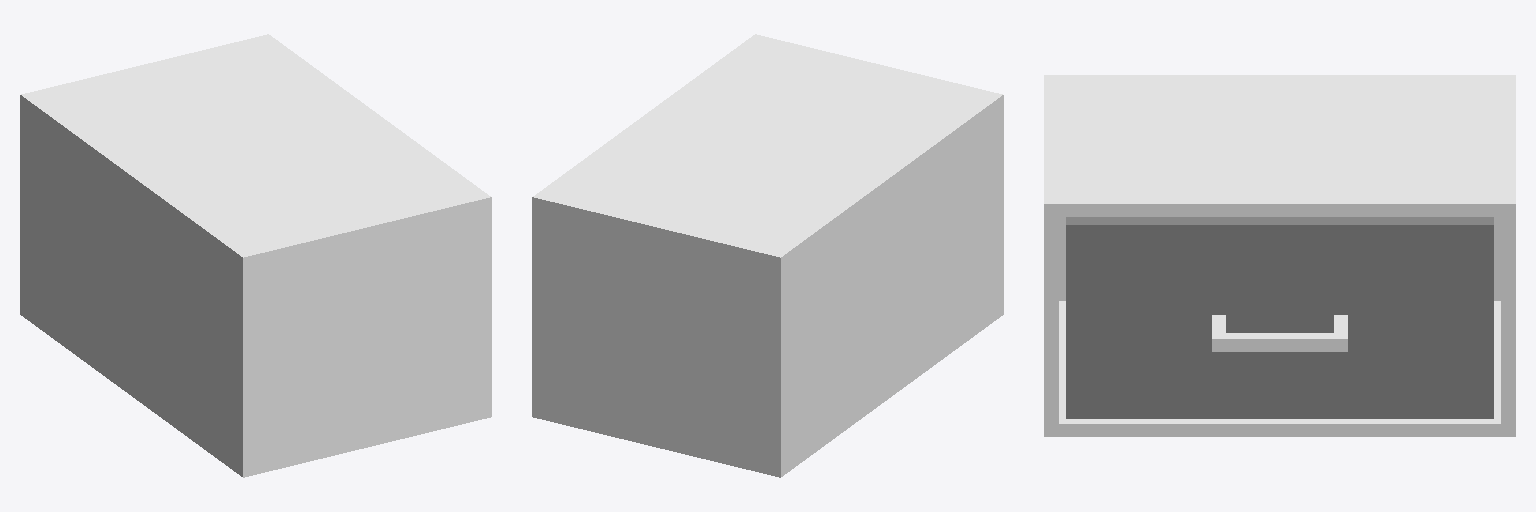
URDF robot description (drawer):
<?xml version="1.0" ?>
<!-- =================================================================================== -->
<!-- |    This document was autogenerated by xacro from drawer_one_sided_handle.xacro  | -->
<!-- |    EDITING THIS FILE BY HAND IS NOT RECOMMENDED                                 | -->
<!-- =================================================================================== -->
<robot name="drawer" xmlns:xacro="http://ros.org/wiki/xacro">
  <material name="omni/Blue">
    <color rgba="0 0 0.8 1"/>
  </material>
  <material name="omni/Red">
    <color rgba="1 0 0 1"/>
  </material>
  <material name="omni/White">
    <color rgba="1 1 1 1"/>
  </material>
  <material name="omni/Green">
    <color rgba="0 1 0 1"/>
  </material>
  <material name="omni/Yellow">
    <color rgba="1 1 0 1"/>
  </material>
  <material name="omni/LightGrey">
    <color rgba="0.6 0.6 0.6 1"/>
  </material>
  <material name="omni/DarkGrey">
    <color rgba="0.4 0.4 0.4 1"/>
  </material>
  <link name="base_link">
    </link>
  <link name="drawer">
    <visual>
      <origin rpy="0 0 0" xyz="0 0 0"/>
      <geometry>
        <box size="0.4 0.6 0.3"/>
      </geometry>
      <material name="omni/LightGrey"/>
    </visual>
    <collision>
      <origin rpy="0 0 0" xyz="0 0 0"/>
      <geometry>
        <box size="0.4 0.6 0.3"/>
      </geometry>
      <contact_coefficients mu="0.0"/>
    </collision>
    <inertial>
      <!-- CENTER OF MASS -->
      <origin rpy="0 0 0" xyz="0 0 0"/>
      <mass value="0.1"/>
      <!-- box inertia: 1/12*m(y^2+z^2), ... -->
      <inertia ixx="1e-3" ixy="0" ixz="0" iyy="1e-3" iyz="0" izz="1e-3"/>
    </inertial>
  </link>
  <joint name="base_drawer_joint" type="prismatic">
    <origin rpy="0 0 0" xyz="0 0 0"/>
    <parent link="base_link"/>
    <child link="drawer"/>
    <dynamics damping="0.5" friction="0.1"/>
    <limit effort="0.1" lower="0.0" upper="0.5" velocity="10.0"/>
    <axis xyz="1 0 0"/>
  </joint>
  <link name="left_wall">
    <visual>
      <origin rpy="0 0 0" xyz="0 0 0"/>
      <geometry>
        <box size="0.41 0.02 0.32"/>
      </geometry>
      <material name="omni/White"/>
    </visual>
    <collision>
      <origin rpy="0 0 0" xyz="0 0 0.0"/>
      <geometry>
        <box size="0.41 0.02 0.32"/>
      </geometry>
    </collision>
    <inertial>
      <!-- CENTER OF MASS -->
      <origin rpy="0 0 0" xyz="0 0 0"/>
      <mass value="0.05"/>
      <!-- box inertia: 1/12*m(y^2+z^2), ... -->
      <inertia ixx="1e-3" ixy="0" ixz="0" iyy="1e-3" iyz="0" izz="1e-3"/>
    </inertial>
  </link>
  <joint name="b_2_lw" type="fixed">
    <origin rpy="0 0 0" xyz="-0.01 -0.32 0"/>
    <parent link="base_link"/>
    <child link="left_wall"/>
  </joint>
  <link name="right_wall">
    <visual>
      <origin rpy="0 0 0" xyz="0 0 0"/>
      <geometry>
        <box size="0.41 0.02 0.32"/>
      </geometry>
      <material name="omni/White"/>
    </visual>
    <collision>
      <origin rpy="0 0 0" xyz="0 0 0.0"/>
      <geometry>
        <box size="0.41 0.02 0.32"/>
      </geometry>
    </collision>
    <inertial>
      <!-- CENTER OF MASS -->
      <origin rpy="0 0 0" xyz="0 0 0"/>
      <mass value="0.05"/>
      <!-- box inertia: 1/12*m(y^2+z^2), ... -->
      <inertia ixx="1e-3" ixy="0" ixz="0" iyy="1e-3" iyz="0" izz="1e-3"/>
    </inertial>
  </link>
  <joint name="b_2_rw" type="fixed">
    <origin rpy="0 0 0" xyz="-0.01 0.32 0"/>
    <parent link="base_link"/>
    <child link="right_wall"/>
  </joint>
  <link name="bottom_wall">
    <visual>
      <origin rpy="0 0 0" xyz="0 0 0"/>
      <geometry>
        <box size="0.41 0.66 0.02"/>
      </geometry>
      <material name="omni/White"/>
    </visual>
    <collision>
      <origin rpy="0 0 0" xyz="0 0 0.0"/>
      <geometry>
        <box size="0.41 0.66 0.02"/>
      </geometry>
    </collision>
    <inertial>
      <!-- CENTER OF MASS -->
      <origin rpy="0 0 0" xyz="0 0 0"/>
      <mass value="0.05"/>
      <!-- box inertia: 1/12*m(y^2+z^2), ... -->
      <inertia ixx="1e-3" ixy="0" ixz="0" iyy="1e-3" iyz="0" izz="1e-3"/>
    </inertial>
  </link>
  <joint name="b_2_bw" type="fixed">
    <origin rpy="0 0 0" xyz="-0.01 0 -0.17"/>
    <parent link="base_link"/>
    <child link="bottom_wall"/>
  </joint>
  <link name="top_wall">
    <visual>
      <origin rpy="0 0 0" xyz="0 0 0"/>
      <geometry>
        <box size="0.41 0.66 0.02"/>
      </geometry>
      <material name="omni/White"/>
    </visual>
    <collision>
      <origin rpy="0 0 0" xyz="0 0 0.0"/>
      <geometry>
        <box size="0.41 0.66 0.02"/>
      </geometry>
    </collision>
    <inertial>
      <!-- CENTER OF MASS -->
      <origin rpy="0 0 0" xyz="0 0 0"/>
      <mass value="0.05"/>
      <!-- box inertia: 1/12*m(y^2+z^2), ... -->
      <inertia ixx="1e-3" ixy="0" ixz="0" iyy="1e-3" iyz="0" izz="1e-3"/>
    </inertial>
  </link>
  <joint name="b_2_tw" type="fixed">
    <origin rpy="0 0 0" xyz="-0.01 0 0.17"/>
    <parent link="base_link"/>
    <child link="top_wall"/>
  </joint>
  <link name="back_wall">
    <visual>
      <origin rpy="0 0 0" xyz="0 0 0"/>
      <geometry>
        <box size="0.02 0.66 0.36"/>
      </geometry>
      <material name="omni/White"/>
    </visual>
    <collision>
      <origin rpy="0 0 0" xyz="0 0 0.0"/>
      <geometry>
        <box size="0.02 0.66 0.36"/>
      </geometry>
    </collision>
    <inertial>
      <!-- CENTER OF MASS -->
      <origin rpy="0 0 0" xyz="0 0 0"/>
      <mass value="0.05"/>
      <!-- box inertia: 1/12*m(y^2+z^2), ... -->
      <inertia ixx="1e-3" ixy="0" ixz="0" iyy="1e-3" iyz="0" izz="1e-3"/>
    </inertial>
  </link>
  <joint name="b_2_backw" type="fixed">
    <origin rpy="0 0 0" xyz="-0.22 0 0"/>
    <parent link="base_link"/>
    <child link="back_wall"/>
  </joint>
  <link name="handle_left">
    <visual>
      <origin rpy="0 0 0" xyz="0 0 0"/>
      <geometry>
        <box size="0.06 0.02 0.02"/>
      </geometry>
      <material name="omni/White"/>
    </visual>
    <collision>
      <origin rpy="0 0 0" xyz="0 0 0.0"/>
      <geometry>
        <box size="0.06 0.02 0.02"/>
      </geometry>
    </collision>
    <inertial>
      <!-- CENTER OF MASS -->
      <origin rpy="0 0 0" xyz="0 0 0"/>
      <mass value="0.05"/>
      <!-- box inertia: 1/12*m(y^2+z^2), ... -->
      <inertia ixx="2e-05" ixy="0" ixz="0" iyy="0.0001" iyz="0" izz="0.0001"/>
    </inertial>
  </link>
  <joint name="d_2_hl" type="fixed">
    <origin rpy="0 0 0" xyz="0.23 -0.085 0"/>
    <parent link="drawer"/>
    <child link="handle_left"/>
  </joint>
  <link name="handle_right">
    <visual>
      <origin rpy="0 0 0" xyz="0 0 0"/>
      <geometry>
        <box size="0.06 0.02 0.02"/>
      </geometry>
      <material name="omni/White"/>
    </visual>
    <collision>
      <origin rpy="0 0 0" xyz="0 0 0.0"/>
      <geometry>
        <box size="0.06 0.02 0.02"/>
      </geometry>
    </collision>
    <inertial>
      <!-- CENTER OF MASS -->
      <origin rpy="0 0 0" xyz="0 0 0"/>
      <mass value="0.05"/>
      <!-- box inertia: 1/12*m(y^2+z^2), ... -->
      <inertia ixx="2e-05" ixy="0" ixz="0" iyy="0.0001" iyz="0" izz="0.0001"/>
    </inertial>
  </link>
  <joint name="d_2_hr" type="fixed">
    <origin rpy="0 0 0" xyz="0.23 0.085 0"/>
    <parent link="drawer"/>
    <child link="handle_right"/>
  </joint>
  <link name="handle_grip">
    <visual>
      <origin rpy="0 0 0" xyz="0 0 0"/>
      <geometry>
        <box size="0.02 0.19 0.02"/>
      </geometry>
      <material name="omni/White"/>
    </visual>
    <collision>
      <origin rpy="0 0 0" xyz="0 0 0.0"/>
      <geometry>
        <box size="0.02 0.19 0.02"/>
      </geometry>
    </collision>
    <inertial>
      <!-- CENTER OF MASS -->
      <origin rpy="0 0 0" xyz="0 0 0"/>
      <mass value="0.05"/>
      <!-- box inertia: 1/12*m(y^2+z^2), ... -->
      <inertia ixx="0.0009125" ixy="0" ixz="0" iyy="2e-05" iyz="0" izz="0.0009125"/>
    </inertial>
  </link>
  <joint name="d_2_hg" type="fixed">
    <origin rpy="0 0 0" xyz="0.27 0 0"/>
    <parent link="drawer"/>
    <child link="handle_grip"/>
  </joint>
<!--  <link name="handle_top_cover">-->
<!--    <visual>-->
<!--      <origin rpy="0 0 0" xyz="0 0 0"/>-->
<!--      <geometry>-->
<!--        &lt;!&ndash; <box size="${handle_gap + handle_thickness} ${handle_span + 2 * handle_thickness} ${handle_thickness * 20}"/> &ndash;&gt;-->
<!--        <box size="0.08 0.19 0.006"/>-->
<!--      </geometry>-->
<!--      <material name="omni/White"/>-->
<!--    </visual>-->
<!--    <collision>-->
<!--      <origin rpy="0 0 0" xyz="0 0 0.0"/>-->
<!--      <geometry>-->
<!--        <box size="0.08 0.19 0.006"/>-->
<!--      </geometry>-->
<!--      <contact_coefficients mu="0.0"/>-->
<!--    </collision>-->
<!--    <inertial>-->
<!--      <origin rpy="0 0 0" xyz="0 0 0"/>-->
<!--      <mass value="0.05"/>-->
<!--      <inertia ixx="0.0009125" ixy="0" ixz="0" iyy="0.0001" iyz="0" izz="0.0009925"/>-->
<!--    </inertial>-->
<!--  </link>-->
<!--  <joint name="d_2_htc" type="fixed">-->
<!--    <origin rpy="0 0 0" xyz="0.24 0 -0.043"/>-->
<!--    <parent link="drawer"/>-->
<!--    <child link="handle_top_cover"/>-->
<!--  </joint>-->
<!--  <link name="handle_bottom_cover">-->
<!--    <visual>-->
<!--      <origin rpy="0 0 0" xyz="0 0 0"/>-->
<!--      <geometry>-->
<!--        &lt;!&ndash; <box size="${handle_gap + handle_thickness} ${handle_span + 2 * handle_thickness} ${handle_thickness * 20}"/> &ndash;&gt;-->
<!--        <box size="0.006 0.19 0.113136"/>-->
<!--      </geometry>-->
<!--      <material name="omni/White"/>-->
<!--    </visual>-->
<!--    <collision>-->
<!--      <origin rpy="0 0 0" xyz="0 0 0.0"/>-->
<!--      <geometry>-->
<!--        <box size="0.006 0.19 0.113136"/>-->
<!--      </geometry>-->
<!--      <contact_coefficients mu="0.0"/>-->
<!--    </collision>-->
<!--    <inertial>-->
<!--      <origin rpy="0 0 0" xyz="0 0 0"/>-->
<!--      <mass value="0.05"/>-->
<!--      <inertia ixx="0.0009125" ixy="0" ixz="0" iyy="0.0001" iyz="0" izz="0.0009925"/>-->
<!--    </inertial>-->
<!--  </link>-->
<!--  <joint name="d_2_hbc" type="fixed">-->
<!--    <origin rpy="0 0.78539816339 0" xyz="-0.001 0 -0.04"/>-->
<!--    <parent link="handle_top_cover"/>-->
<!--    <child link="handle_bottom_cover"/>-->
<!--  </joint>-->
</robot>

--- What the picture shows (computed from the rendered views, not written in the file) ---
The picture shows the robot from 3 angles, left to right: view 1: azimuth 30°, elevation 25°; view 2: azimuth 150°, elevation 25°; view 3: azimuth 270°, elevation 25°; orthographic projection.
Model drawer with 10 links and 9 joints (1 prismatic, 8 fixed), rooted at base_link, posed every joint at zero.
Visible links, largest first — view 1: top_wall, back_wall, left_wall, bottom_wall; view 2: top_wall, back_wall, right_wall, bottom_wall; view 3: drawer, top_wall, bottom_wall, back_wall, left_wall, right_wall, handle_grip.
Link boxes in pixels (x1,y1,x2,y2): top_wall: [33, 34, 491, 267]; back_wall: [20, 92, 254, 477]; left_wall: [252, 209, 491, 462]; bottom_wall: [252, 405, 491, 475]; top_wall: [532, 34, 993, 267]; back_wall: [769, 92, 1003, 477]; right_wall: [532, 209, 771, 462]; bottom_wall: [532, 405, 771, 474]; drawer: [1066, 217, 1493, 418]; top_wall: [1044, 80, 1515, 216]; bottom_wall: [1044, 301, 1515, 436]; back_wall: [1044, 75, 1515, 300]; left_wall: [1044, 217, 1058, 423]; right_wall: [1501, 217, 1515, 423]; handle_grip: [1212, 333, 1347, 351].
Bounding box of the posed robot: 0.51 × 0.66 × 0.36 m (x, y, z).
Geometry: primitives only (box / cylinder / sphere), no mesh files.